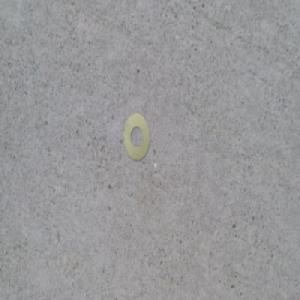Washer: (123, 110, 148, 163)
